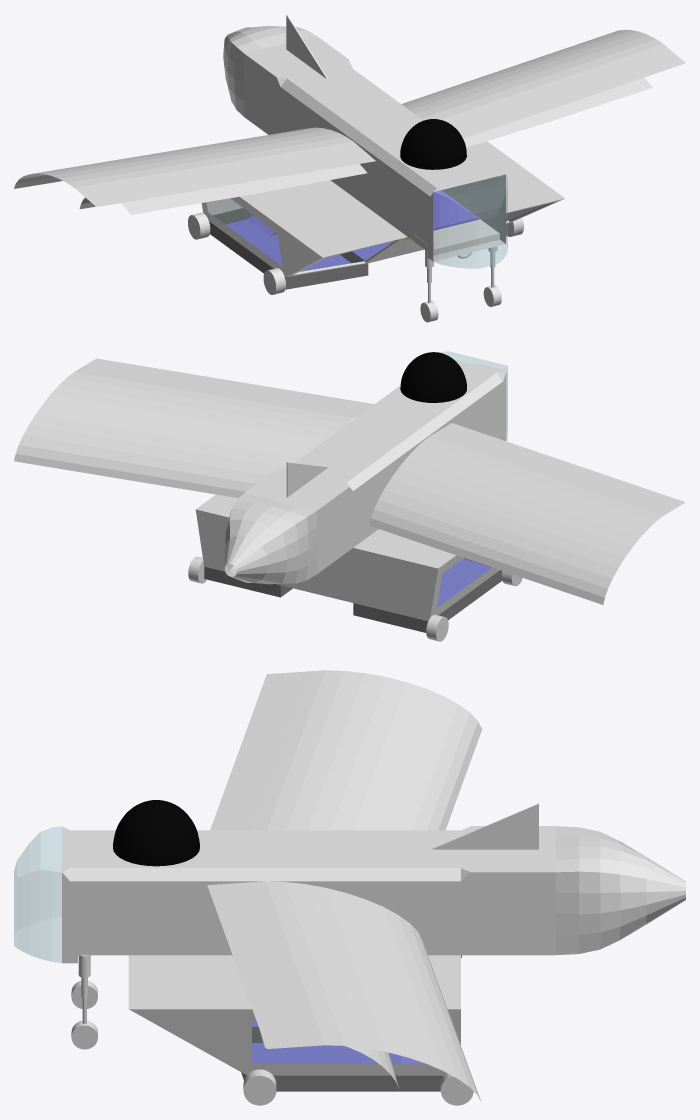
Rendered from SpaceShip.glb.
3 renders of one model, top to bottom at view 1: azimuth 30°, elevation 25°; view 2: azimuth 150°, elevation 25°; view 3: azimuth 270°, elevation 25°, orthographic. The views are drawn at different scales.
Visible parts, largest first — view 1: mainShip, wing, Sphere.001, Floor.001, backFin, WheelBack2, WheelBack1, ShipFrontDoor; view 2: wing, mainShip, Sphere.001, backFin, WheelBack2; view 3: mainShip, wing, Sphere.001, backFin, WheelBack3, WheelBack4.
Part boxes in pixels (x1=…): mainShip: x1=201, y1=26, x2=564, y2=289; wing: x1=14, y1=29, x2=685, y2=214; Sphere.001: x1=400, y1=119, x2=466, y2=169; Floor.001: x1=407, y1=190, x2=478, y2=238; backFin: x1=286, y1=14, x2=327, y2=79; WheelBack2: x1=188, y1=212, x2=210, y2=239; WheelBack1: x1=263, y1=268, x2=285, y2=294; ShipFrontDoor: x1=369, y1=237, x2=424, y2=262; wing: x1=14, y1=358, x2=685, y2=604; mainShip: x1=195, y1=351, x2=507, y2=632; Sphere.001: x1=400, y1=352, x2=466, y2=402; backFin: x1=286, y1=462, x2=328, y2=497; WheelBack2: x1=426, y1=614, x2=448, y2=641; mainShip: x1=14, y1=826, x2=685, y2=1091; wing: x1=207, y1=670, x2=482, y2=1102; Sphere.001: x1=113, y1=800, x2=199, y2=866; backFin: x1=432, y1=803, x2=538, y2=849; WheelBack3: x1=243, y1=1069, x2=276, y2=1105; WheelBack4: x1=440, y1=1073, x2=473, y2=1105.
Size of the model in its own units: 52.35 by 14.53 by 39.65.
